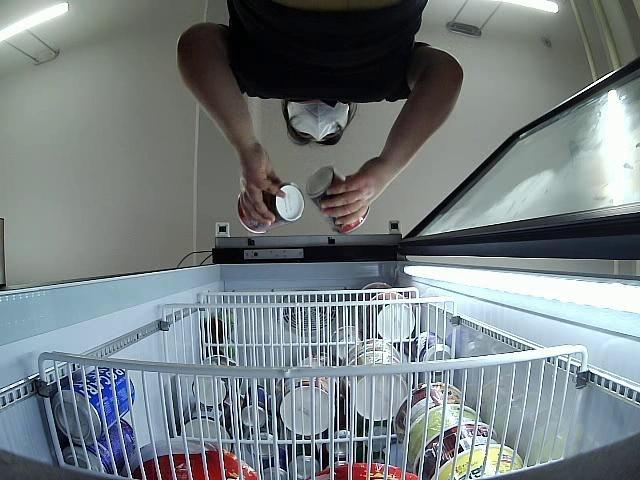02_shinRamen_S: (306, 169, 369, 234), (238, 182, 305, 234)
